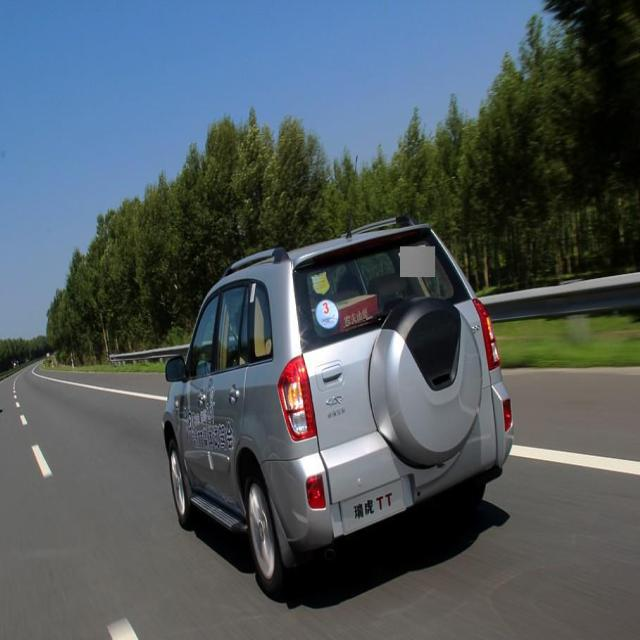back_glass: (295, 228, 468, 351)
back_left_side_light: (278, 350, 319, 444)
back_right_side_light: (472, 294, 502, 373)
front_left_side_door: (182, 280, 226, 519)
front_left_side_mirror: (162, 354, 190, 386)
rear_bumper: (266, 382, 515, 558)
wheel: (245, 467, 284, 588), (167, 429, 193, 522)
